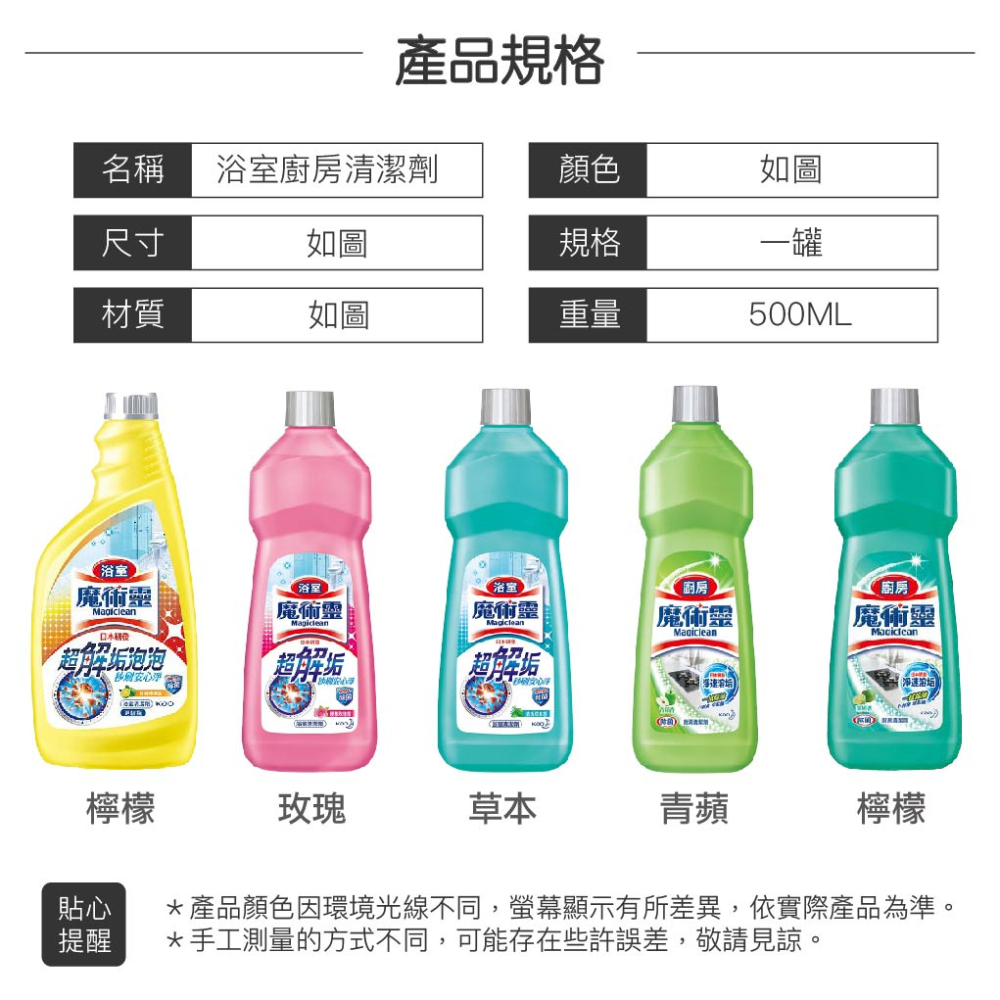cleaner: (20, 380, 209, 778), (804, 379, 968, 772), (614, 381, 771, 777), (234, 383, 386, 777), (438, 383, 581, 778)
